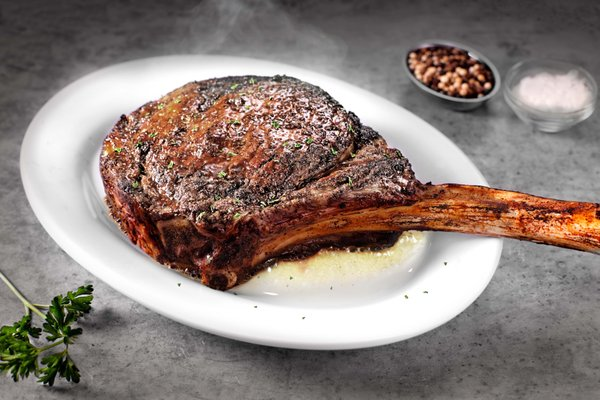sushi: (503, 57, 599, 133), (404, 40, 503, 111)
